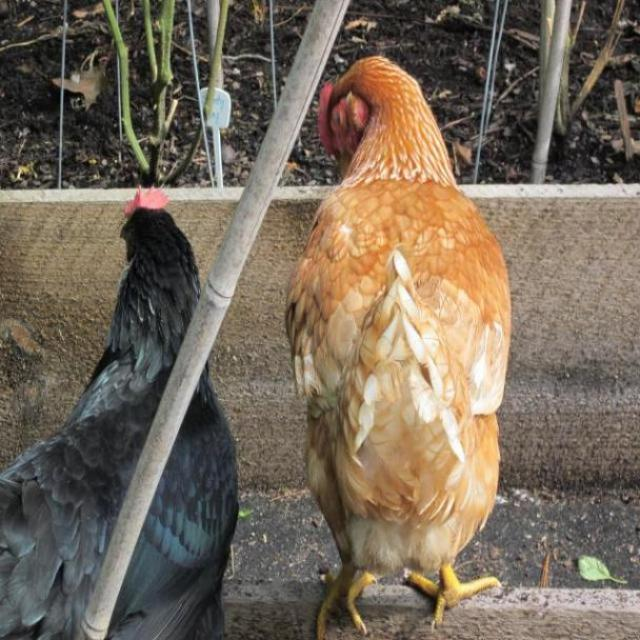Chicken: (287, 57, 513, 637), (4, 186, 240, 639)
